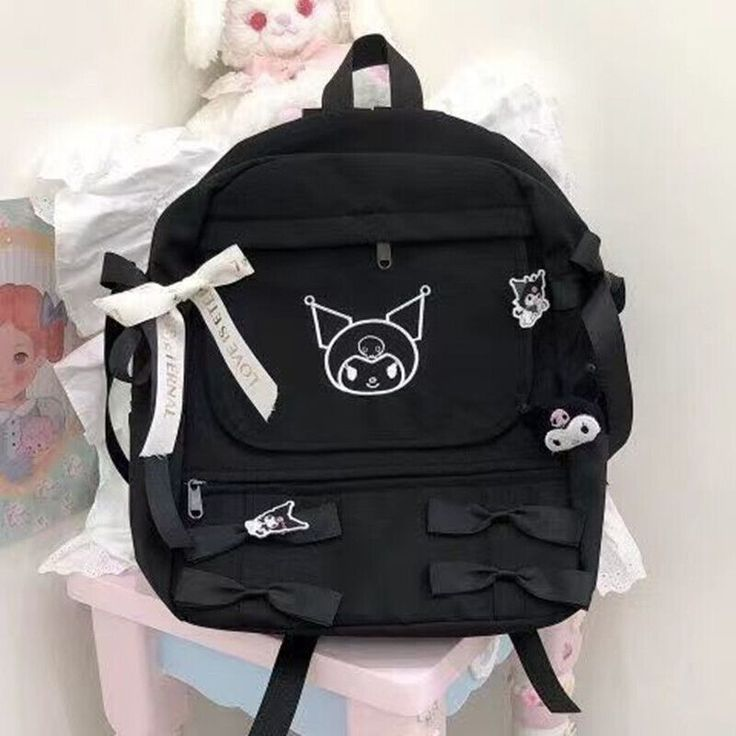nylon: (97, 107, 634, 638)
